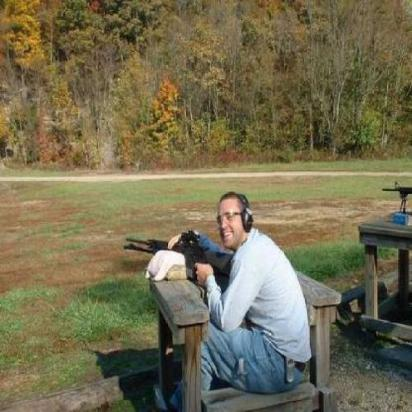Gun: (122, 234, 237, 286)
